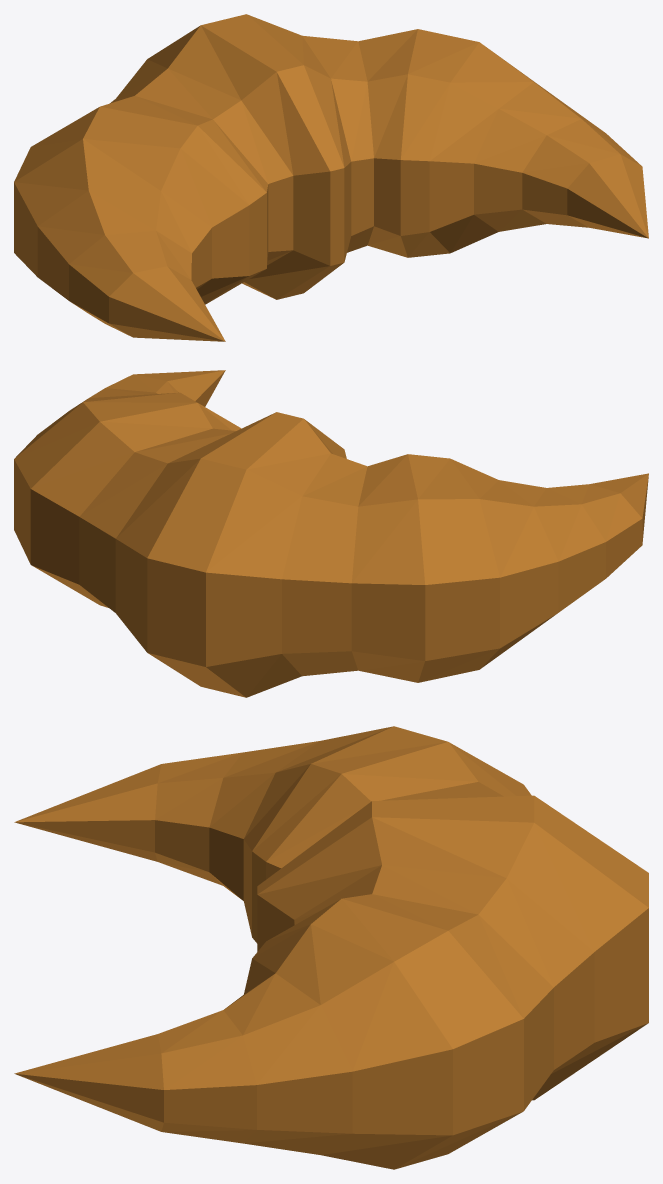
File: croissant-758d69.glb
The picture shows the model from 3 angles, top to bottom: view 1: azimuth 30°, elevation 25°; view 2: azimuth 150°, elevation 25°; view 3: azimuth 270°, elevation 25°; orthographic projection. The views are drawn at different scales.
Visible parts, largest first — view 1: croissant; view 2: croissant; view 3: croissant.
Boxes of the visible parts, x1,y1,x2,y2 form: croissant: [14, 14, 648, 341]; croissant: [14, 370, 648, 697]; croissant: [14, 726, 648, 1169].
Bounding box in the file's own units: 0.0989 × 0.0402 × 0.0832.
